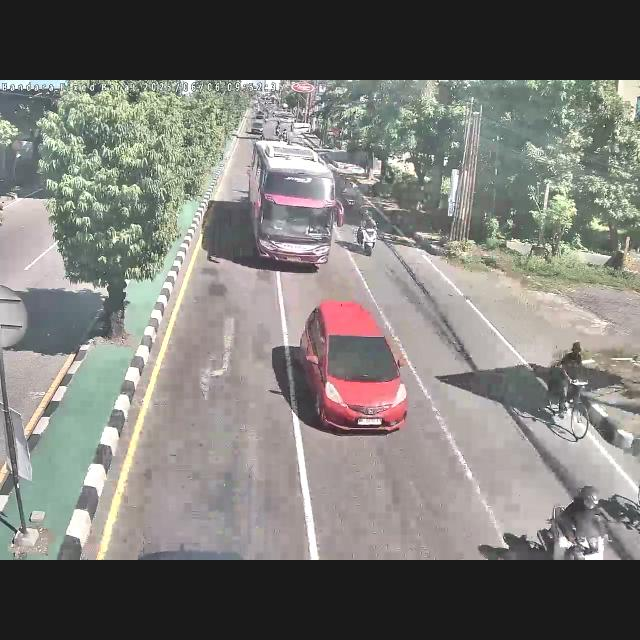Bis: (250, 137, 340, 269)
Mobil: (294, 294, 414, 438)
Motor: (527, 476, 615, 560), (540, 332, 596, 446), (356, 205, 382, 259)
